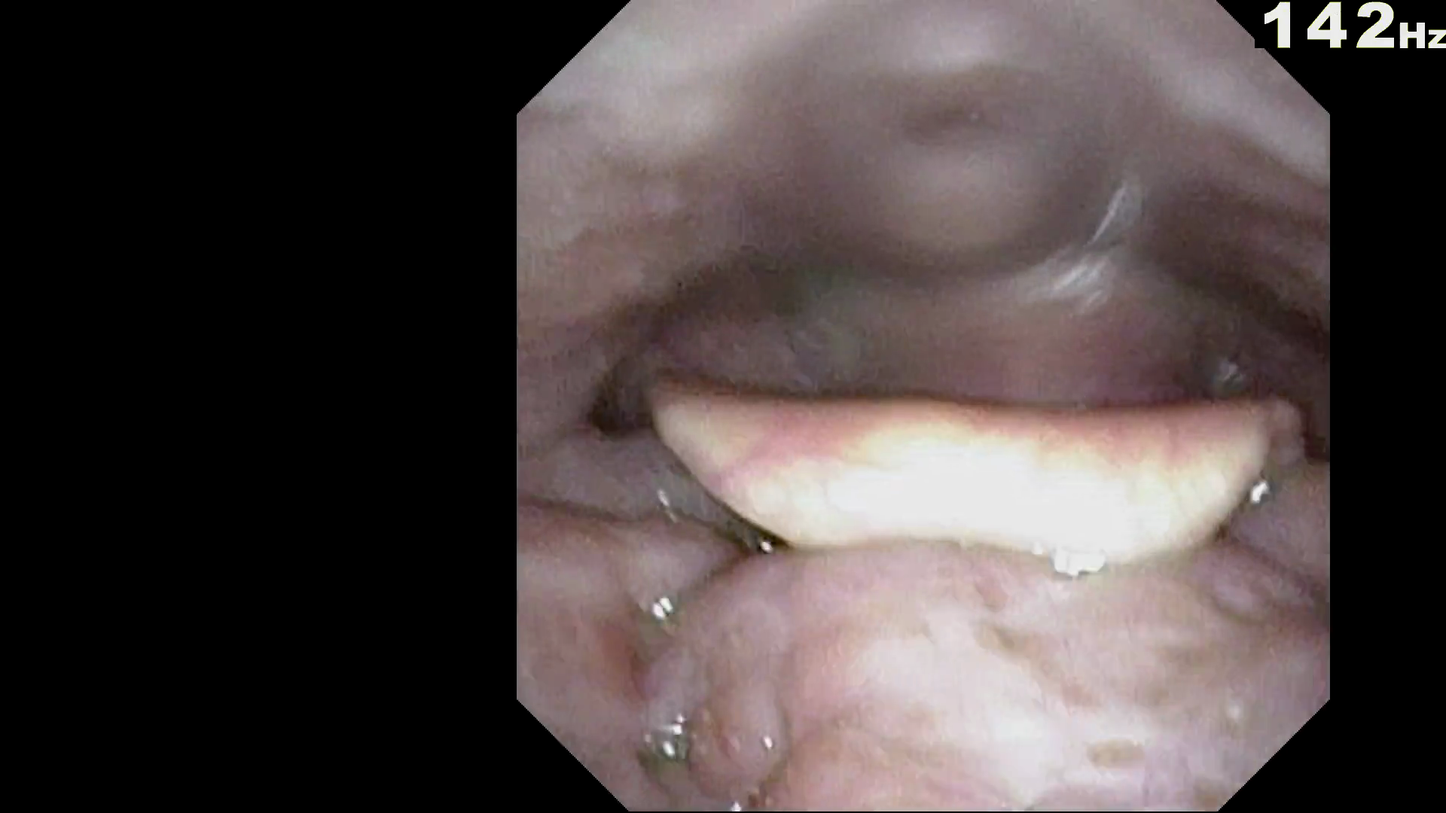epiglottis: (655, 391, 1270, 616)
